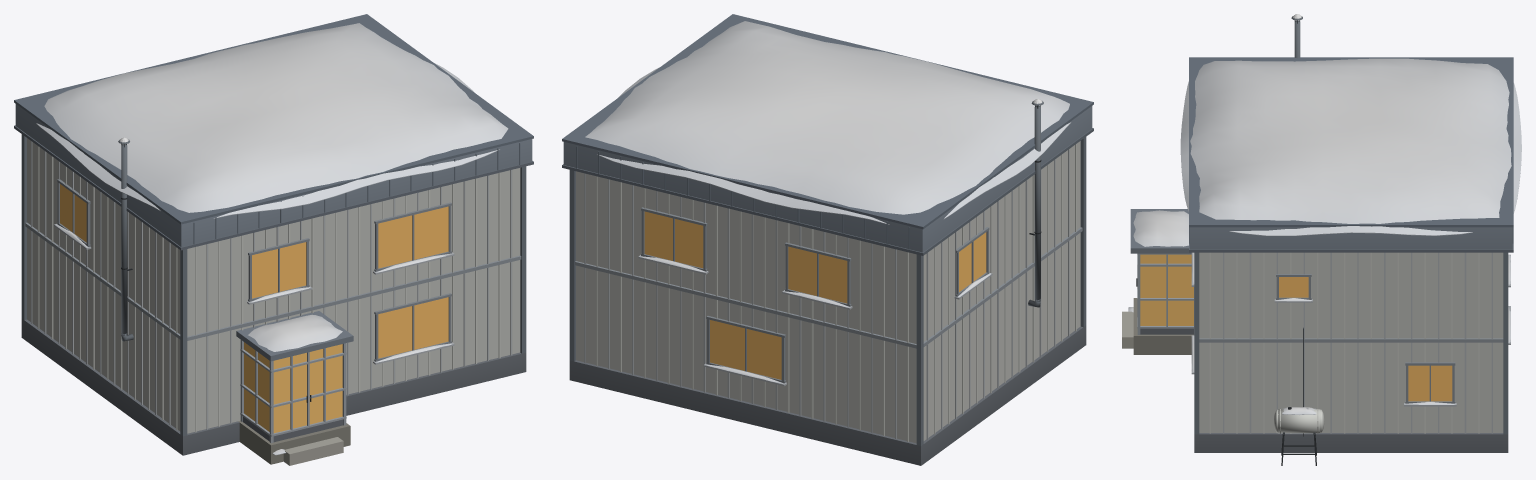
The model's file is house_flat.glb.
3 views of the same model, side by side, from view 1: azimuth 30°, elevation 25°; view 2: azimuth 150°, elevation 25°; view 3: azimuth 270°, elevation 25° (orthographic). The views are drawn at different scales.
Parts seen in each view (by area): view 1: house_flat; view 2: house_flat; view 3: house_flat.
Boxes of the visible parts, <box> form: house_flat: <box>14,14,533,465</box>; house_flat: <box>562,14,1093,465</box>; house_flat: <box>1122,14,1521,465</box>.
Size of the model in its own units: 11.97 by 8.39 by 11.13.
